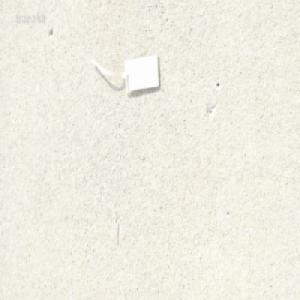LuggageTag: (88, 50, 161, 96)
